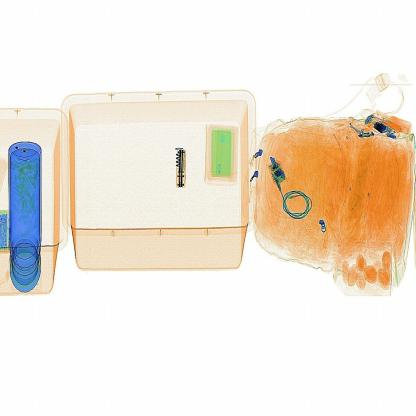scissors: (168, 137, 198, 199)
